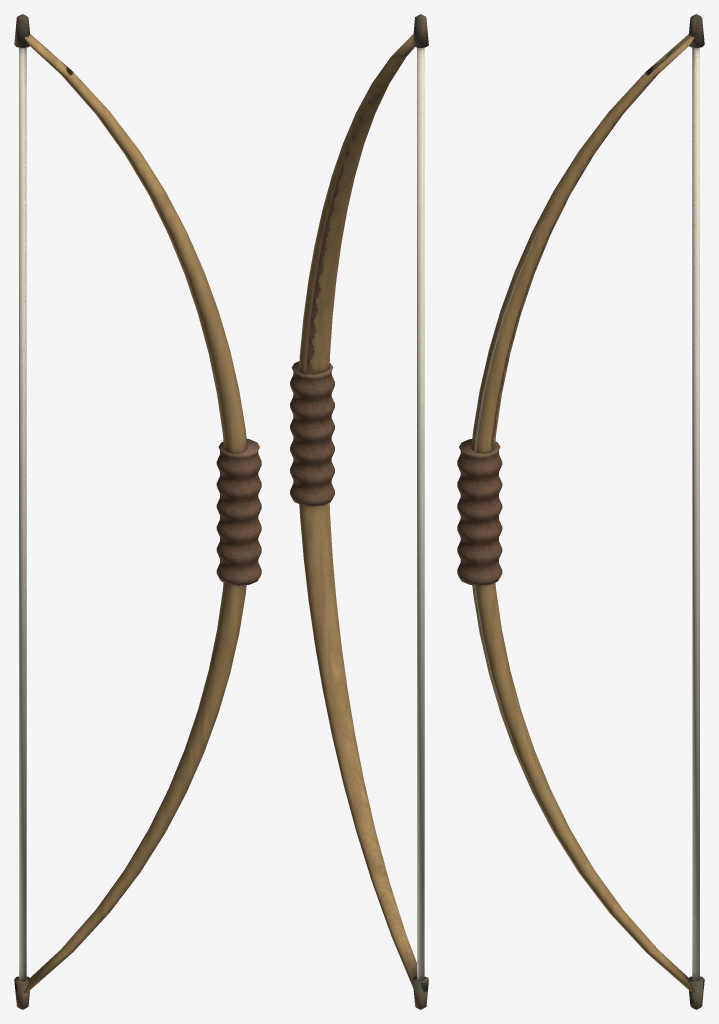
The model's file is shortbow.glb.
3 views of the same model, side by side, from view 1: azimuth 90°, elevation 25°; view 2: azimuth 210°, elevation 25°; view 3: azimuth 270°, elevation 25° (orthographic).
Visible parts, largest first — view 1: shortbow; view 2: shortbow; view 3: shortbow.
Boxes of the visible parts, x1,y1,x2,y2 form: shortbow: (14, 14, 261, 1009); shortbow: (290, 14, 428, 1009); shortbow: (457, 14, 704, 1009).
Size of the model in its own units: 0.1063 by 2.6 by 0.5855.
1 material, 1 textured.
